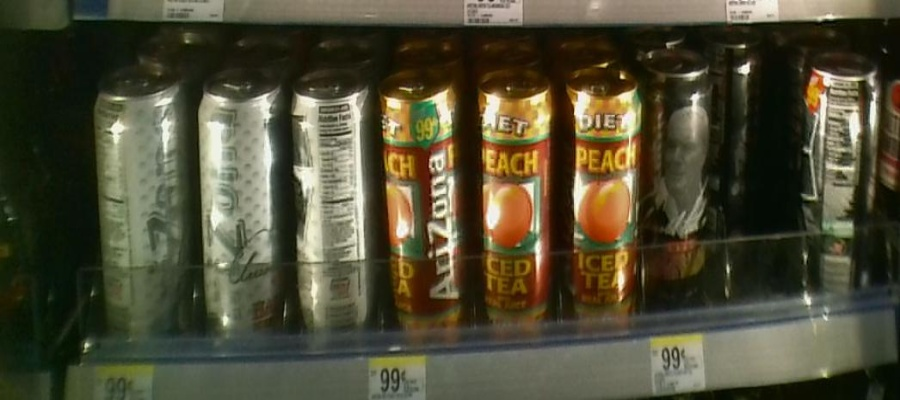bottle: (91, 55, 196, 355), (199, 60, 287, 350), (472, 54, 559, 342), (292, 71, 378, 352), (385, 58, 467, 352), (564, 58, 645, 343), (798, 52, 885, 309), (649, 44, 710, 312), (717, 35, 761, 205)
